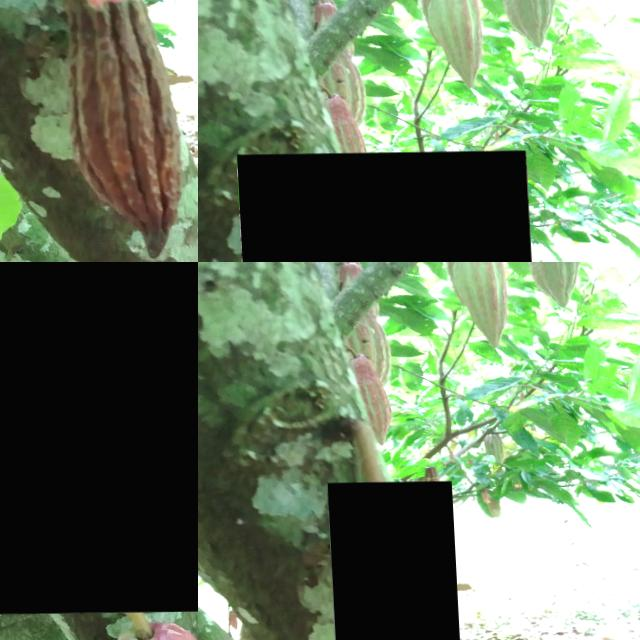Fitoftora: (234, 152, 542, 262), (324, 482, 460, 640)
Sana: (0, 262, 198, 615), (451, 262, 514, 349), (530, 262, 584, 310), (352, 352, 382, 427)
